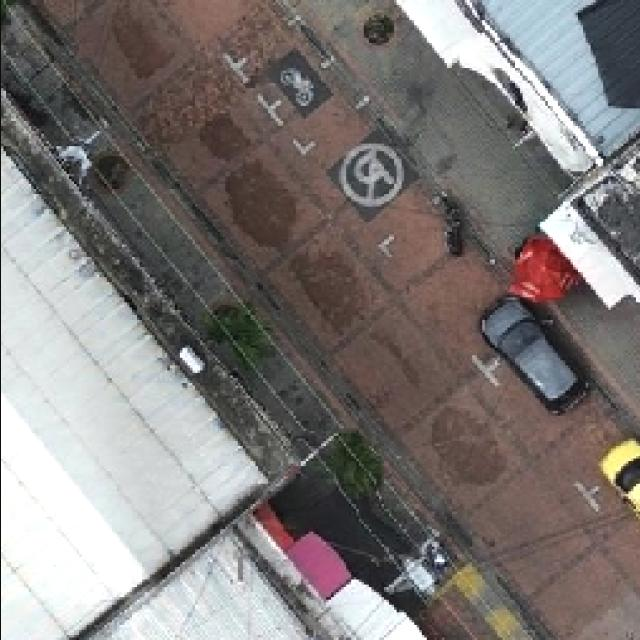vendedor_ambulante: (501, 227, 582, 308)
